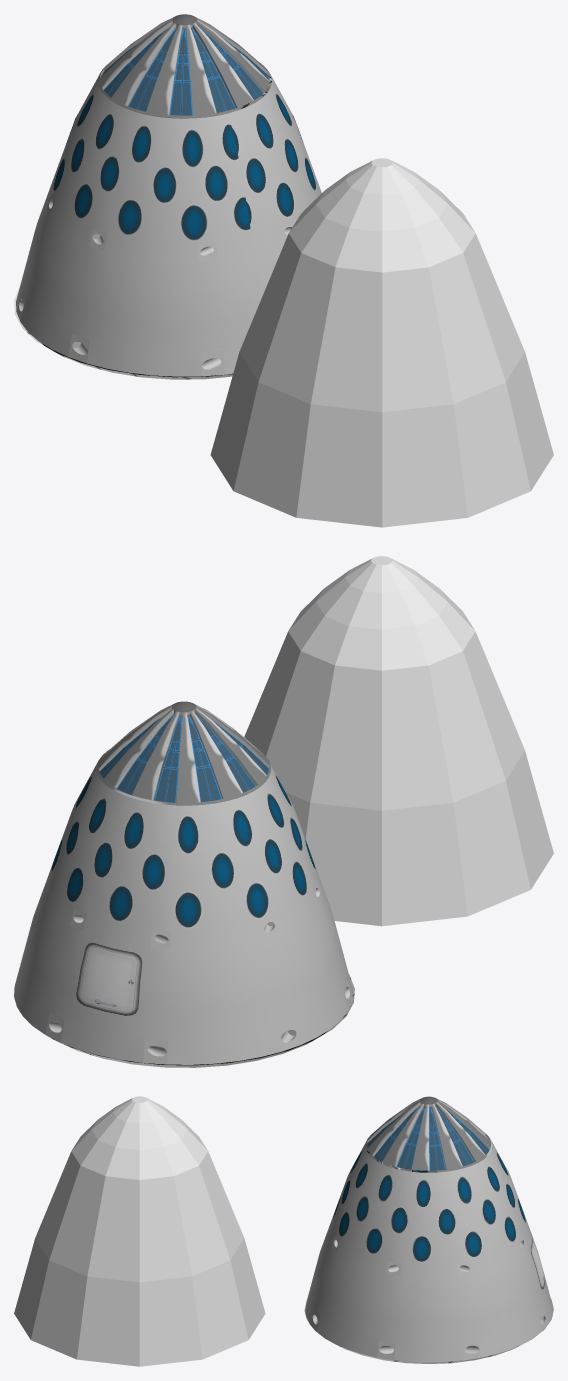
The model's file is newcolonialfinal2.fbx.
3 renders of one model, top to bottom at view 1: azimuth 30°, elevation 25°; view 2: azimuth 150°, elevation 25°; view 3: azimuth 270°, elevation 25°, orthographic. The views are drawn at different scales.
Parts seen in each view (by area): view 1: Cone, colonialpod, topring.002, botoom; view 2: Cone, colonialpod, topring.002, botoom; view 3: Cone, colonialpod, topring.002, botoom.
Part boxes in pixels (box(x1,y1,x2,y2)): Cone: box(210, 158, 553, 527); colonialpod: box(16, 62, 321, 376); topring.002: box(98, 17, 271, 118); botoom: box(14, 286, 232, 379); Cone: box(244, 556, 553, 926); colonialpod: box(14, 749, 352, 1064); topring.002: box(96, 704, 270, 805); botoom: box(14, 974, 354, 1067); Cone: box(14, 1096, 265, 1366); colonialpod: box(305, 1140, 552, 1362); topring.002: box(365, 1099, 492, 1172); botoom: box(304, 1298, 553, 1363).
Bounding box in the file's own units: 790 × 765 × 1696.
